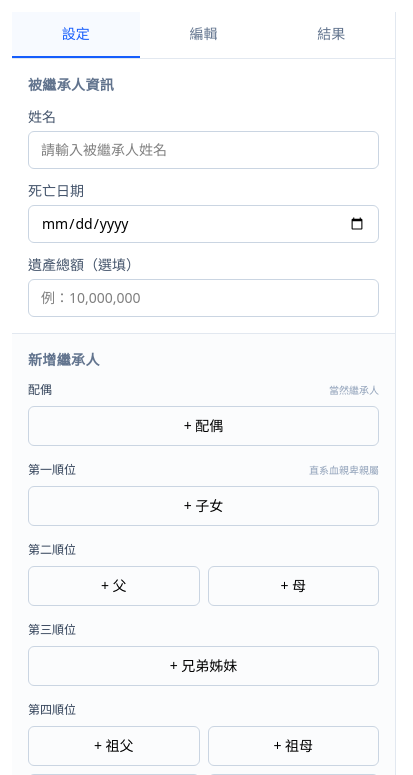
PersonEditor › unchecking 已婚 checkbox re-enables the marriage date input
Click the button "+ 子女". click: point(204, 506)
box: x1=28 y1=486 x2=379 y2=526
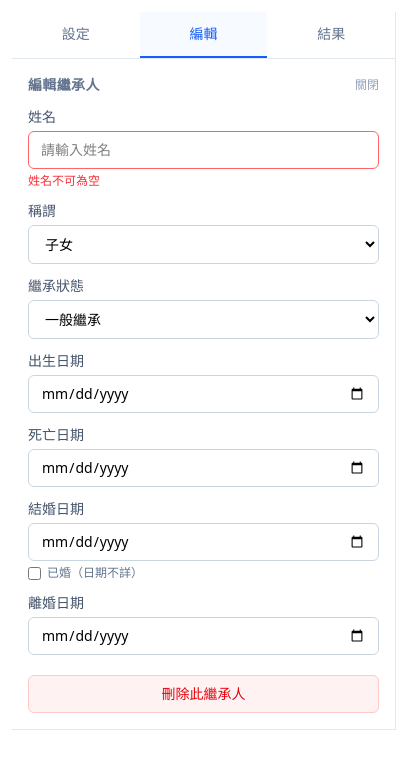
Click the checkbox labelled "已婚（日期不詳）". click: point(34, 573)
box: x1=28 y1=566 x2=41 y2=580
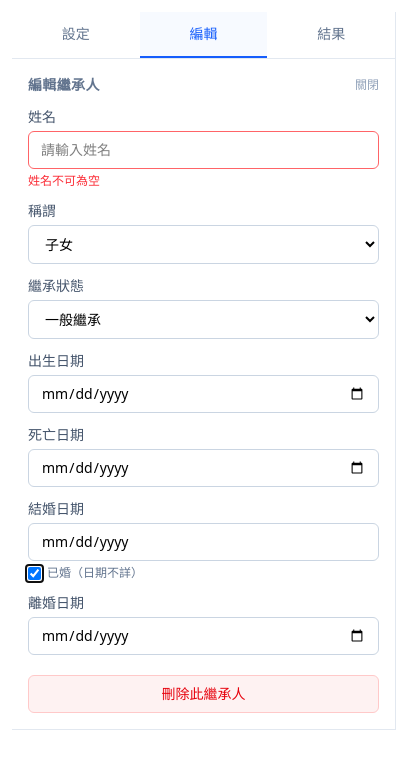
Expected: the date field labelled "結婚日期" is disabled, x1=28 y1=523 x2=379 y2=561
Click the checkbox labelled "已婚（日期不詳）". click: point(34, 573)
box: x1=28 y1=566 x2=41 y2=580
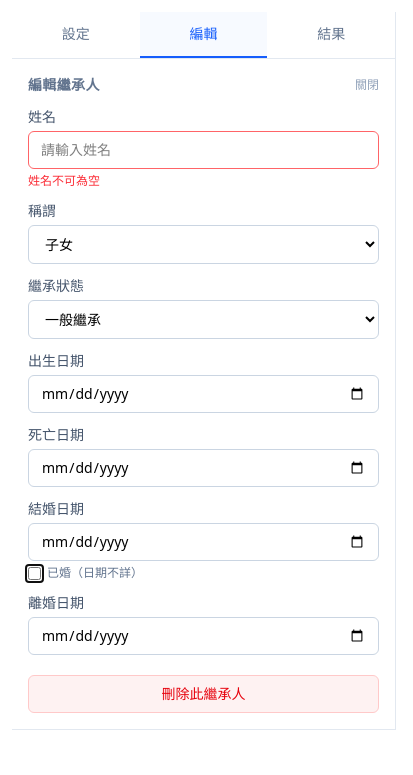
Expected: the date field labelled "結婚日期" is enabled, x1=28 y1=523 x2=379 y2=561
